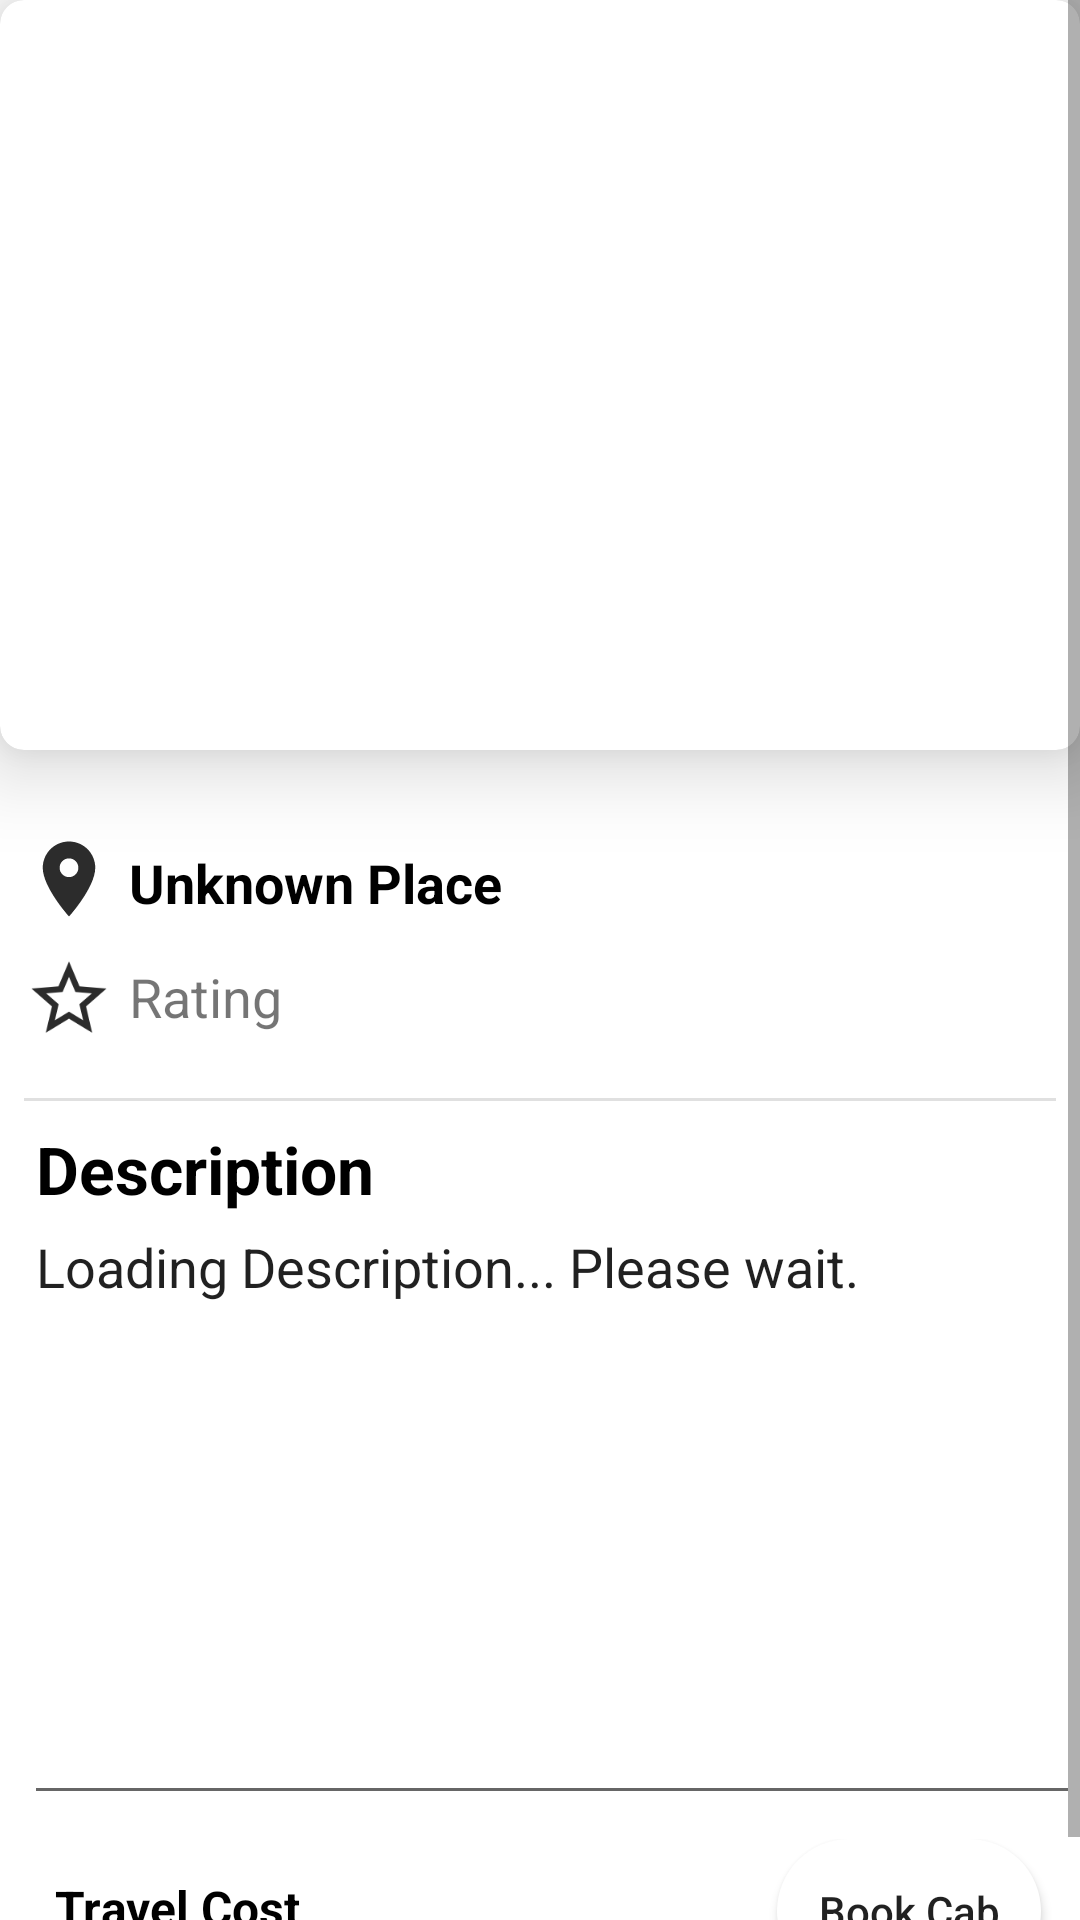

Point at icon controls on the screen. Image size 1080×1920, points as point (x, y).
locationicon: point (69, 878)
